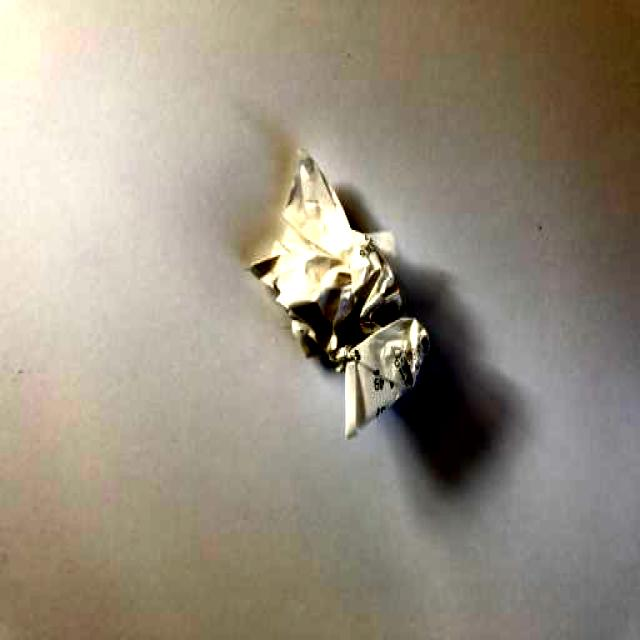Trash: (235, 134, 442, 452)
